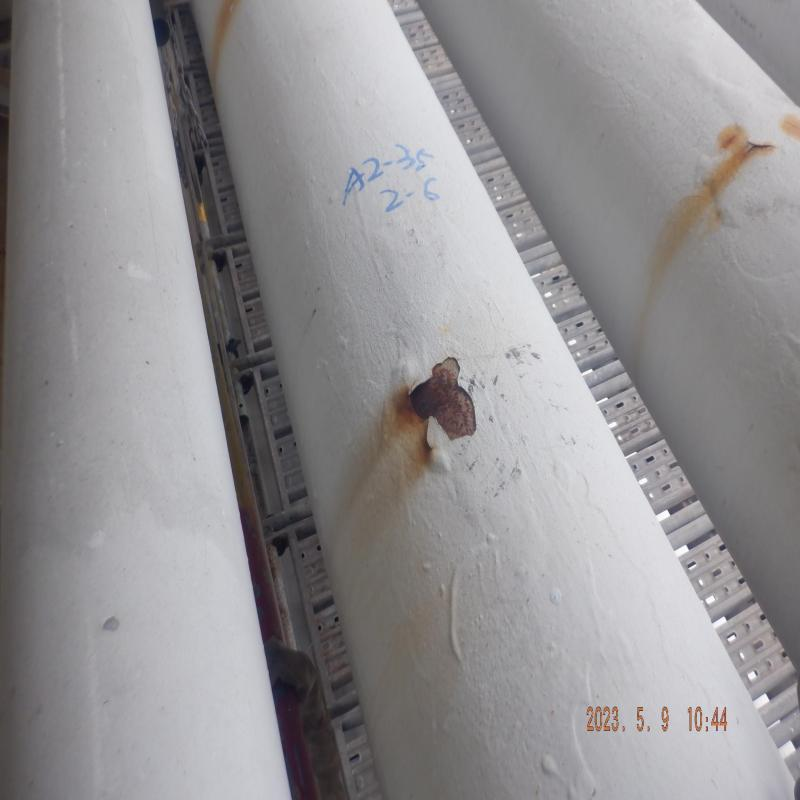corrosion: (412, 378, 472, 435), (724, 146, 748, 177)
